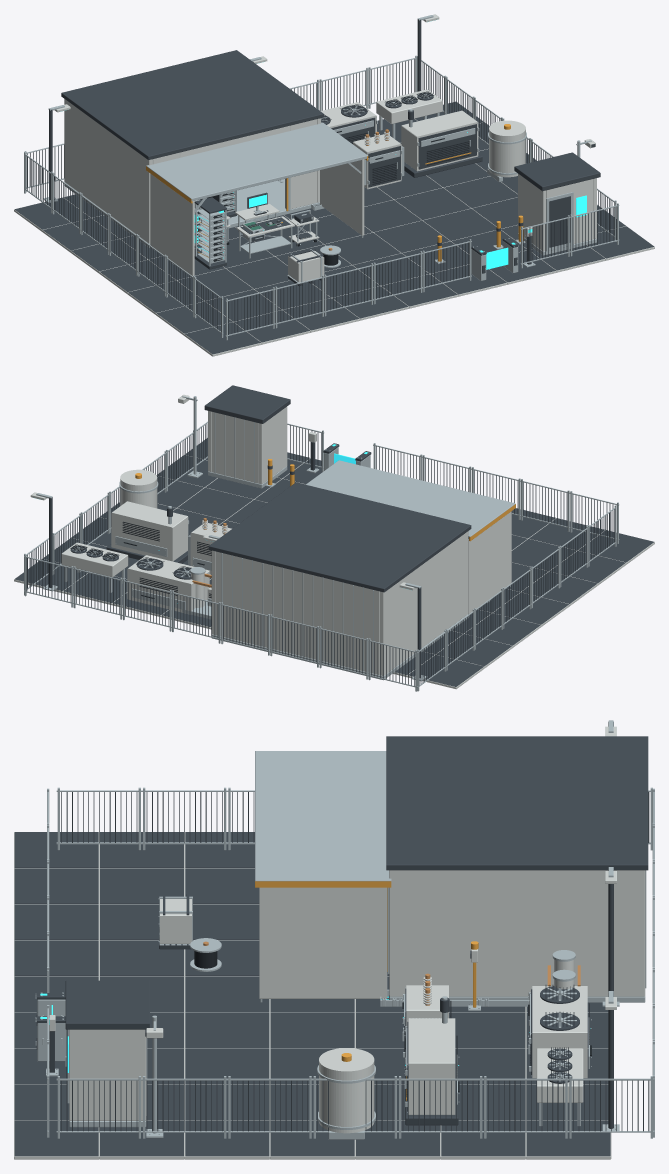
The model's file is data-center-server-operations-compound.glb.
3 renders of one model, top to bottom at view 1: azimuth 30°, elevation 25°; view 2: azimuth 150°, elevation 25°; view 3: azimuth 270°, elevation 25°, orthographic. The views are drawn at different scales.
Visible parts, largest first — view 1: 063-data-centre-infiltration-kit-operations-building/2, 063-data-centre-infiltration-kit-operations-building/1, 064-data-centre-infiltration-kit-service-canopy/0, 064-data-centre-infiltration-kit-service-canopy/1, 065-data-centre-infiltration-kit-security-booth/2, 065-data-centre-infiltration-kit-security-booth/1, 090-data-centre-infiltration-kit-generator/0, 090-data-centre-infiltration-kit-generator/1, 063-data-centre-infiltration-kit-operations-building/0, 091-data-centre-infiltration-kit-fuel-tank/1, 076-data-centre-infiltration-kit-open-service-rack/1, 045-data-centre-infiltration-kit-floor-tile/1 (+62 smaller); view 2: 063-data-centre-infiltration-kit-operations-building/1, 063-data-centre-infiltration-kit-operations-building/2, 064-data-centre-infiltration-kit-service-canopy/0, 065-data-centre-infiltration-kit-security-booth/1, 064-data-centre-infiltration-kit-service-canopy/1, 090-data-centre-infiltration-kit-generator/1, 063-data-centre-infiltration-kit-operations-building/0, 088-data-centre-infiltration-kit-chiller/0, 065-data-centre-infiltration-kit-security-booth/2, 053-data-centre-infiltration-kit-floor-tile/1, 089-data-centre-infiltration-kit-dry-cooler/1, 002-data-centre-infiltration-kit-floor-tile/1 (+45 smaller); view 3: 063-data-centre-infiltration-kit-operations-building/2, 063-data-centre-infiltration-kit-operations-building/1, 064-data-centre-infiltration-kit-service-canopy/0, 064-data-centre-infiltration-kit-service-canopy/1, 065-data-centre-infiltration-kit-security-booth/1, 090-data-centre-infiltration-kit-generator/1, 065-data-centre-infiltration-kit-security-booth/2, 091-data-centre-infiltration-kit-fuel-tank/1, 038-data-centre-infiltration-kit-floor-tile/1, 039-data-centre-infiltration-kit-floor-tile/1, 046-data-centre-infiltration-kit-floor-tile/1, 013-data-centre-infiltration-kit-floor-tile/1 (+72 smaller).
Boxes of the visible parts, x1,y1,x2,y2 form: 063-data-centre-infiltration-kit-operations-building/2: (61, 50, 323, 159); 063-data-centre-infiltration-kit-operations-building/1: (64, 99, 320, 243); 064-data-centre-infiltration-kit-service-canopy/0: (146, 122, 367, 278); 064-data-centre-infiltration-kit-service-canopy/1: (150, 159, 364, 275); 065-data-centre-infiltration-kit-security-booth/2: (514, 152, 600, 247); 065-data-centre-infiltration-kit-security-booth/1: (518, 174, 596, 251); 090-data-centre-infiltration-kit-generator/0: (404, 110, 482, 177); 090-data-centre-infiltration-kit-generator/1: (401, 110, 478, 171); 063-data-centre-infiltration-kit-operations-building/0: (64, 177, 319, 247); 091-data-centre-infiltration-kit-fuel-tank/1: (489, 120, 525, 177); 076-data-centre-infiltration-kit-open-service-rack/1: (195, 204, 226, 266); 045-data-centre-infiltration-kit-floor-tile/1: (395, 188, 470, 220); 063-data-centre-infiltration-kit-operations-building/1: (211, 531, 468, 675); 063-data-centre-infiltration-kit-operations-building/2: (208, 482, 471, 592); 064-data-centre-infiltration-kit-service-canopy/0: (306, 460, 515, 616); 065-data-centre-infiltration-kit-security-booth/1: (208, 406, 287, 484); 064-data-centre-infiltration-kit-service-canopy/1: (468, 511, 511, 614); 090-data-centre-infiltration-kit-generator/1: (111, 501, 188, 561); 063-data-centre-infiltration-kit-operations-building/0: (212, 553, 468, 680); 088-data-centre-infiltration-kit-chiller/0: (127, 555, 209, 614); 065-data-centre-infiltration-kit-security-booth/2: (204, 385, 290, 423); 053-data-centre-infiltration-kit-floor-tile/1: (177, 487, 253, 519); 089-data-centre-infiltration-kit-dry-cooler/1: (61, 542, 128, 577); 002-data-centre-infiltration-kit-floor-tile/1: (464, 613, 540, 645); 063-data-centre-infiltration-kit-operations-building/2: (386, 736, 648, 870); 063-data-centre-infiltration-kit-operations-building/1: (389, 870, 645, 996); 064-data-centre-infiltration-kit-service-canopy/0: (255, 751, 391, 1002); 064-data-centre-infiltration-kit-service-canopy/1: (259, 887, 387, 998); 065-data-centre-infiltration-kit-security-booth/1: (69, 1029, 146, 1120); 090-data-centre-infiltration-kit-generator/1: (408, 1018, 455, 1114); 065-data-centre-infiltration-kit-security-booth/2: (65, 980, 149, 1078); 091-data-centre-infiltration-kit-fuel-tank/1: (319, 1048, 374, 1133); 038-data-centre-infiltration-kit-floor-tile/1: (270, 1012, 354, 1047); 039-data-centre-infiltration-kit-floor-tile/1: (185, 1012, 269, 1047); 046-data-centre-infiltration-kit-floor-tile/1: (185, 1048, 269, 1084); 013-data-centre-infiltration-kit-floor-tile/1: (14, 868, 98, 903).
Size of the model in its own units: 18 by 3.7 by 15.03.
